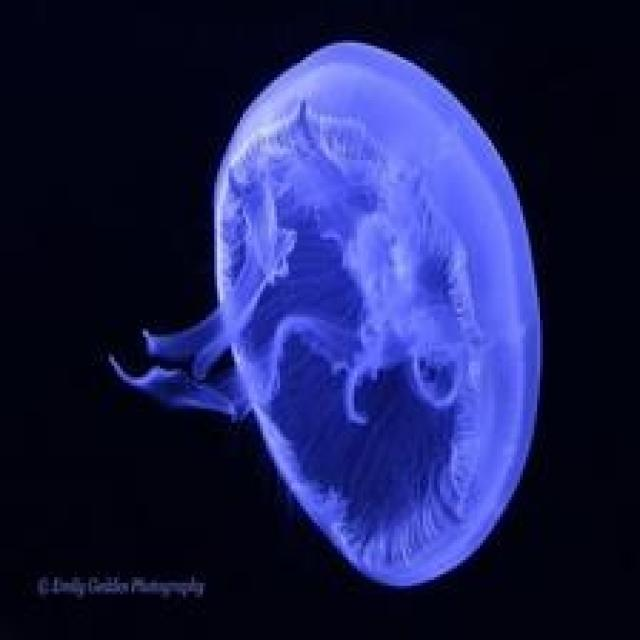Jellyfish: (106, 37, 543, 589)
